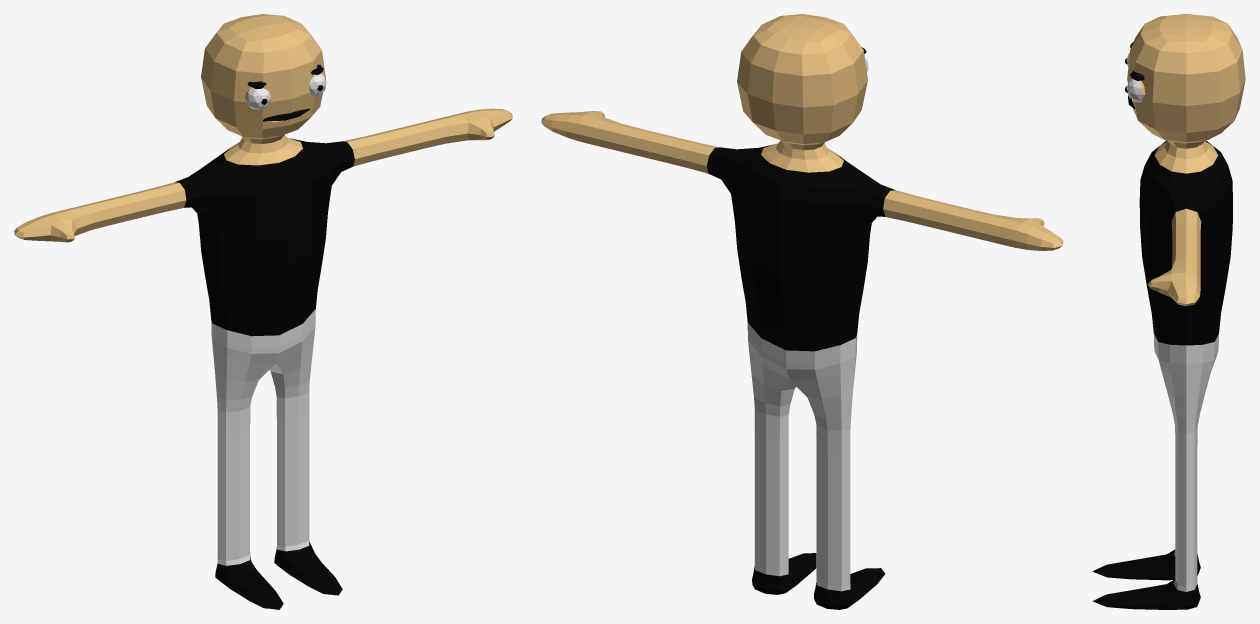
Rendered from characterPractice.fbx.
3 views of the same model, side by side, from view 1: azimuth 30°, elevation 25°; view 2: azimuth 150°, elevation 25°; view 3: azimuth 270°, elevation 25° (orthographic). The views are drawn at different scales.
Visible parts, largest first — view 1: Cube; view 2: Cube; view 3: Cube.
Boxes of the visible parts, <box> form: Cube: <box>14,14,512,609</box>; Cube: <box>541,14,1063,609</box>; Cube: <box>1092,14,1245,609</box>.
Bounding box in the file's own units: 192 × 201 × 49.62.
